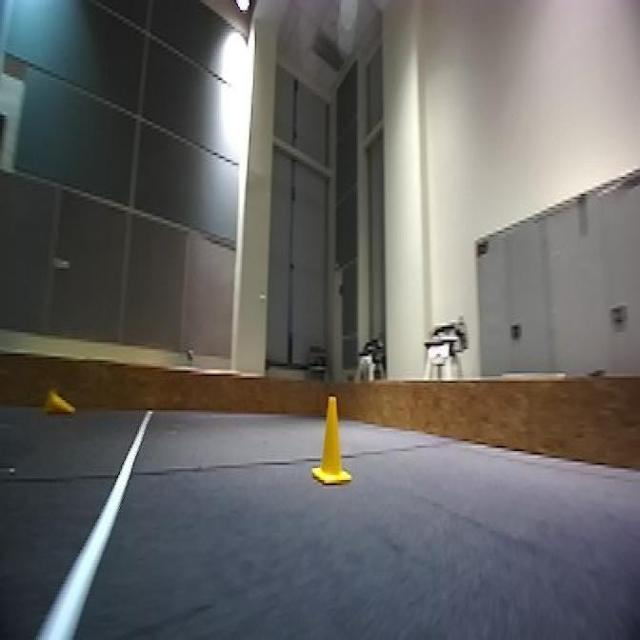frc_cone: (314, 400, 354, 490), (42, 388, 77, 417)
